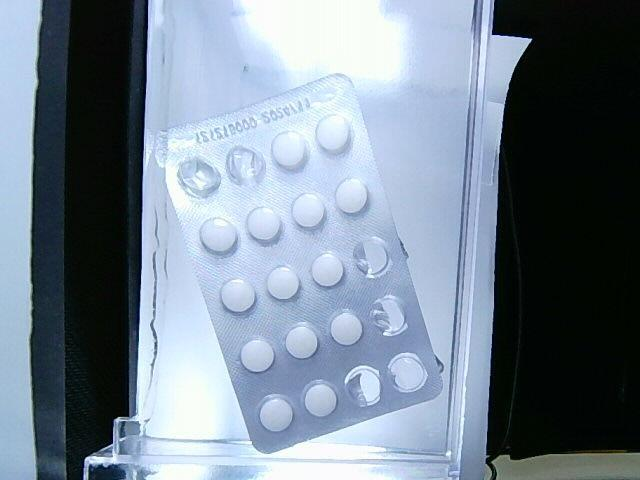Light Front: (159, 74, 444, 456)
No Pill Front: (178, 156, 221, 197), (388, 353, 428, 393), (354, 236, 391, 278), (344, 365, 381, 407), (226, 145, 264, 185), (371, 295, 407, 336)
Pill Front: (315, 114, 350, 154), (200, 218, 237, 254), (271, 131, 306, 169), (259, 395, 294, 432), (291, 193, 326, 229), (246, 208, 281, 244), (220, 279, 256, 314), (304, 380, 337, 417), (240, 339, 275, 372), (335, 179, 367, 214), (311, 253, 343, 288), (330, 310, 362, 345), (285, 324, 317, 359), (266, 266, 299, 299)
